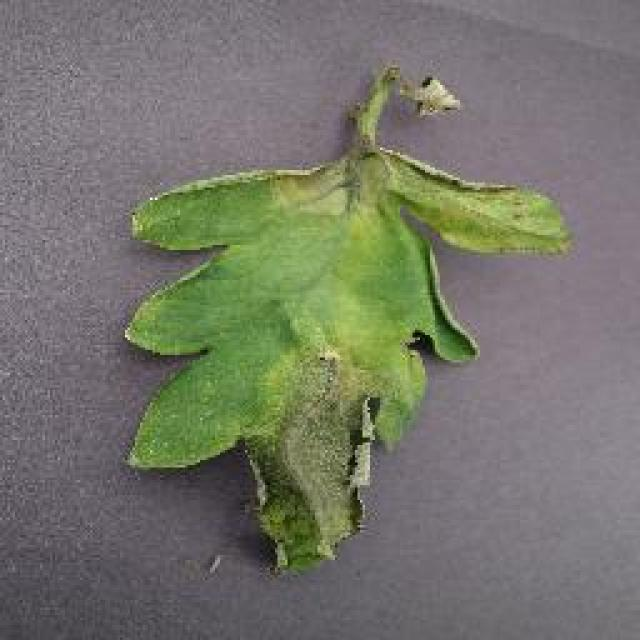Tomato___Late_blight: (122, 67, 578, 582)
